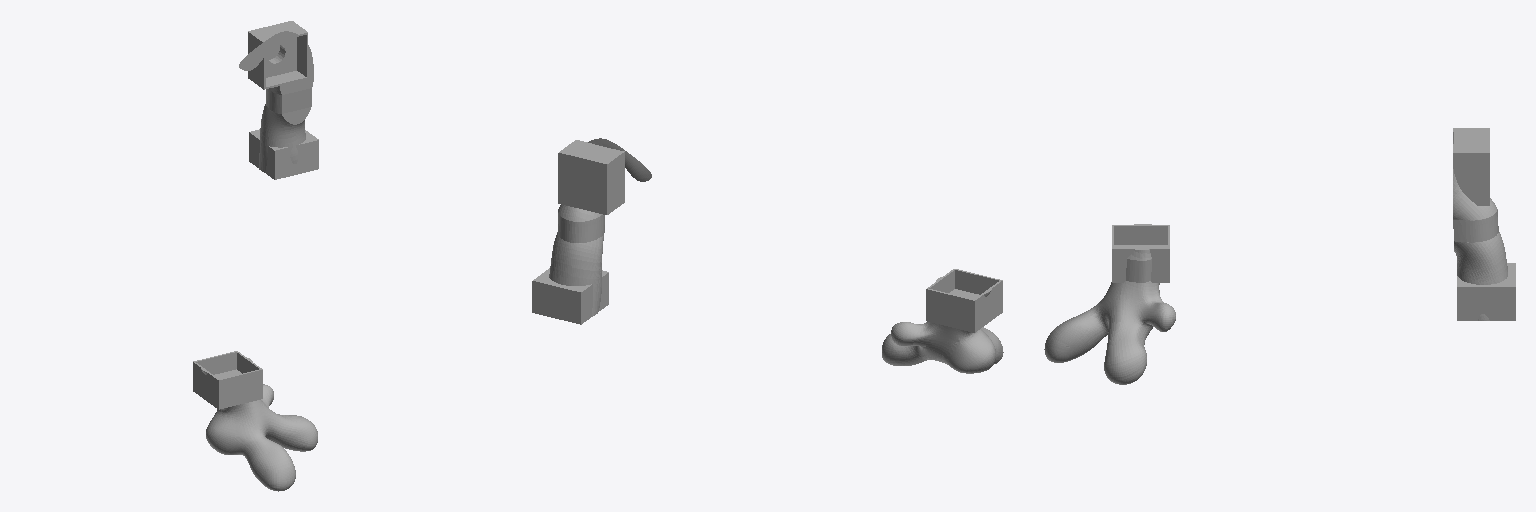
robot.urdf — FrogBot2_top-FrogBot2-x-4_bottom-FrogBot2-x-4:
<?xml version="1.0" ?>
<robot name="FrogBot2_top-FrogBot2-x-4_bottom-FrogBot2-x-4">

<material name="pla_5_percent_infill">
  <color rgba="0.700 0.700 0.700 1.000"/>
</material>

<link name="base_link">
  <inertial>
    <origin xyz="0 0 0" rpy="0 0 0"/>
    <mass value="1.3341577719423"/>
    <inertia ixx="0.0046797925109551535" iyy="0.011134478382956134" izz="0.010477176548232365" ixy="0.00012495104989682066" iyz="8.213962567094231e-05" ixz="-0.002474445058077273"/>
  </inertial>
  <visual>
    <origin xyz="0 0 0" rpy="0 0 0"/>
    <geometry>
      <mesh filename="simple_meshes/base_link.stl" scale="0.001 0.001 0.001"/>
    </geometry>
    <material name="pla_5_percent_infill"/>
  </visual>
  <collision>
    <origin xyz="0 0 0" rpy="0 0 0"/>
    <geometry>
      <mesh filename="simple_meshes/base_link.stl" scale="0.001 0.001 0.001"/>
    </geometry>
  </collision>
</link>

<link name="body_1_0_1">
  <inertial>
    <origin xyz="-0.053395 -0.09218 -0.023663" rpy="0 0 0"/>
    <mass value="0.05881359036328867"/>
    <inertia ixx="9.095212478772816e-05" iyy="9.433446921563066e-05" izz="1.9571050901978073e-05" ixy="-2.2703813579838918e-07" iyz="5.8764704355988514e-06" ixz="8.867298002828396e-06"/>
  </inertial>
  <visual>
    <origin xyz="-0.053395 -0.09218 -0.023663" rpy="0 0 0"/>
    <geometry>
      <mesh filename="simple_meshes/body_1_0_1.stl" scale="0.001 0.001 0.001"/>
    </geometry>
    <material name="pla_5_percent_infill"/>
  </visual>
  <collision>
    <origin xyz="-0.053395 -0.09218 -0.023663" rpy="0 0 0"/>
    <geometry>
      <mesh filename="simple_meshes/body_1_0_1.stl" scale="0.001 0.001 0.001"/>
    </geometry>
  </collision>
</link>

<link name="body_1_1_1">
  <inertial>
    <origin xyz="0.095032 -0.09218 0.005345" rpy="0 0 0"/>
    <mass value="0.12147764623430506"/>
    <inertia ixx="0.00010246199263522172" iyy="0.0001761943179062911" izz="0.00011782166533552858" ixy="5.410723347054093e-06" iyz="6.0611791908008915e-06" ixz="-4.685277818563974e-05"/>
  </inertial>
  <visual>
    <origin xyz="0.095032 -0.09218 0.005345" rpy="0 0 0"/>
    <geometry>
      <mesh filename="simple_meshes/body_1_1_1.stl" scale="0.001 0.001 0.001"/>
    </geometry>
    <material name="pla_5_percent_infill"/>
  </visual>
  <collision>
    <origin xyz="0.095032 -0.09218 0.005345" rpy="0 0 0"/>
    <geometry>
      <mesh filename="simple_meshes/body_1_1_1.stl" scale="0.001 0.001 0.001"/>
    </geometry>
  </collision>
</link>

<link name="body_1_2_1">
  <inertial>
    <origin xyz="-0.041549 0.09218 -0.043945" rpy="0 0 0"/>
    <mass value="0.0660515897145135"/>
    <inertia ixx="0.00015249496816287212" iyy="0.0001576127342945383" izz="3.07219080334755e-05" ixy="1.501649453832291e-06" iyz="-2.0231122639735257e-05" ixz="2.11377468936422e-05"/>
  </inertial>
  <visual>
    <origin xyz="-0.041549 0.09218 -0.043945" rpy="0 0 0"/>
    <geometry>
      <mesh filename="simple_meshes/body_1_2_1.stl" scale="0.001 0.001 0.001"/>
    </geometry>
    <material name="pla_5_percent_infill"/>
  </visual>
  <collision>
    <origin xyz="-0.041549 0.09218 -0.043945" rpy="0 0 0"/>
    <geometry>
      <mesh filename="simple_meshes/body_1_2_1.stl" scale="0.001 0.001 0.001"/>
    </geometry>
  </collision>
</link>

<link name="body_1_3_1">
  <inertial>
    <origin xyz="0.087142 0.09218 -0.003397" rpy="0 0 0"/>
    <mass value="0.12451073409510506"/>
    <inertia ixx="0.00010571617843158684" iyy="0.00017777966187887406" izz="0.00011883490240439248" ixy="-9.040581426799591e-06" iyz="-6.161322615455046e-06" ixz="-4.708264072333197e-05"/>
  </inertial>
  <visual>
    <origin xyz="0.087142 0.09218 -0.003397" rpy="0 0 0"/>
    <geometry>
      <mesh filename="simple_meshes/body_1_3_1.stl" scale="0.001 0.001 0.001"/>
    </geometry>
    <material name="pla_5_percent_infill"/>
  </visual>
  <collision>
    <origin xyz="0.087142 0.09218 -0.003397" rpy="0 0 0"/>
    <geometry>
      <mesh filename="simple_meshes/body_1_3_1.stl" scale="0.001 0.001 0.001"/>
    </geometry>
  </collision>
</link>

<link name="body_2_0_1">
  <inertial>
    <origin xyz="-0.065654 -0.139685 0.114558" rpy="0 0 0"/>
    <mass value="0.1107444252530155"/>
    <inertia ixx="0.00012624032940738994" iyy="0.00013863656985073271" izz="0.0001921665932403502" ixy="-1.045247047117481e-05" iyz="5.1925694311309376e-06" ixz="8.150636253358113e-06"/>
  </inertial>
  <visual>
    <origin xyz="-0.065654 -0.139685 0.114558" rpy="0 0 0"/>
    <geometry>
      <mesh filename="simple_meshes/body_2_0_1.stl" scale="0.001 0.001 0.001"/>
    </geometry>
    <material name="pla_5_percent_infill"/>
  </visual>
  <collision>
    <origin xyz="-0.065654 -0.139685 0.114558" rpy="0 0 0"/>
    <geometry>
      <mesh filename="simple_meshes/body_2_0_1.stl" scale="0.001 0.001 0.001"/>
    </geometry>
  </collision>
</link>

<link name="body_2_1_1">
  <inertial>
    <origin xyz="0.15751 -0.143533 0.114558" rpy="0 0 0"/>
    <mass value="0.08831010992293215"/>
    <inertia ixx="8.490810928962582e-05" iyy="9.918413415202845e-05" izz="9.836942171722717e-05" ixy="-9.11212129733191e-07" iyz="2.318386847240247e-05" ixz="1.448251129212855e-05"/>
  </inertial>
  <visual>
    <origin xyz="0.15751 -0.143533 0.114558" rpy="0 0 0"/>
    <geometry>
      <mesh filename="simple_meshes/body_2_1_1.stl" scale="0.001 0.001 0.001"/>
    </geometry>
    <material name="pla_5_percent_infill"/>
  </visual>
  <collision>
    <origin xyz="0.15751 -0.143533 0.114558" rpy="0 0 0"/>
    <geometry>
      <mesh filename="simple_meshes/body_2_1_1.stl" scale="0.001 0.001 0.001"/>
    </geometry>
  </collision>
</link>

<link name="body_2_2_1">
  <inertial>
    <origin xyz="-0.061161 0.145934 0.114558" rpy="0 0 0"/>
    <mass value="0.10824732304279813"/>
    <inertia ixx="0.00012591728711228416" iyy="0.00013513996235742145" izz="0.000191953516375088" ixy="1.1707051718161995e-05" iyz="-3.4574848813014557e-06" ixz="5.330766853549416e-06"/>
  </inertial>
  <visual>
    <origin xyz="-0.061161 0.145934 0.114558" rpy="0 0 0"/>
    <geometry>
      <mesh filename="simple_meshes/body_2_2_1.stl" scale="0.001 0.001 0.001"/>
    </geometry>
    <material name="pla_5_percent_infill"/>
  </visual>
  <collision>
    <origin xyz="-0.061161 0.145934 0.114558" rpy="0 0 0"/>
    <geometry>
      <mesh filename="simple_meshes/body_2_2_1.stl" scale="0.001 0.001 0.001"/>
    </geometry>
  </collision>
</link>

<link name="body_2_3_1">
  <inertial>
    <origin xyz="0.160089 0.145768 0.114558" rpy="0 0 0"/>
    <mass value="0.08316405117493891"/>
    <inertia ixx="8.562527914710016e-05" iyy="9.445152169073809e-05" izz="9.300721714380423e-05" ixy="2.3158356639860558e-07" iyz="-2.4224199416408507e-05" ixz="1.870806997767002e-05"/>
  </inertial>
  <visual>
    <origin xyz="0.160089 0.145768 0.114558" rpy="0 0 0"/>
    <geometry>
      <mesh filename="simple_meshes/body_2_3_1.stl" scale="0.001 0.001 0.001"/>
    </geometry>
    <material name="pla_5_percent_infill"/>
  </visual>
  <collision>
    <origin xyz="0.160089 0.145768 0.114558" rpy="0 0 0"/>
    <geometry>
      <mesh filename="simple_meshes/body_2_3_1.stl" scale="0.001 0.001 0.001"/>
    </geometry>
  </collision>
</link>

<joint name="joint_1_0" type="revolute">
  <origin xyz="0.053395 0.09218 0.023663" rpy="0 0 0"/>
  <parent link="base_link"/>
  <child link="body_1_0_1"/>
  <axis xyz="1.0 0.0 0.0"/>
  <limit upper="1.2" lower="-1.2" effort="3.8" velocity="5.4"/>
</joint>
<transmission name="joint_1_0_tran">
  <type>transmission_interface/SimpleTransmission</type>
  <joint name="joint_1_0">
    <hardwareInterface>PositionJointInterface</hardwareInterface>
  </joint>
  <actuator name="joint_1_0_actr">
    <hardwareInterface>PositionJointInterface</hardwareInterface>
    <mechanicalReduction>1</mechanicalReduction>
  </actuator>
</transmission>

<joint name="joint_1_1" type="revolute">
  <origin xyz="-0.095032 0.09218 -0.005345" rpy="0 0 0"/>
  <parent link="base_link"/>
  <child link="body_1_1_1"/>
  <axis xyz="1.0 0.0 0.0"/>
  <limit upper="1.2" lower="-1.2" effort="3.8" velocity="5.4"/>
</joint>
<transmission name="joint_1_1_tran">
  <type>transmission_interface/SimpleTransmission</type>
  <joint name="joint_1_1">
    <hardwareInterface>PositionJointInterface</hardwareInterface>
  </joint>
  <actuator name="joint_1_1_actr">
    <hardwareInterface>PositionJointInterface</hardwareInterface>
    <mechanicalReduction>1</mechanicalReduction>
  </actuator>
</transmission>

<joint name="joint_1_2" type="revolute">
  <origin xyz="0.041549 -0.09218 0.043945" rpy="0 0 0"/>
  <parent link="base_link"/>
  <child link="body_1_2_1"/>
  <axis xyz="1.0 0.0 0.0"/>
  <limit upper="1.2" lower="-1.2" effort="3.8" velocity="5.4"/>
</joint>
<transmission name="joint_1_2_tran">
  <type>transmission_interface/SimpleTransmission</type>
  <joint name="joint_1_2">
    <hardwareInterface>PositionJointInterface</hardwareInterface>
  </joint>
  <actuator name="joint_1_2_actr">
    <hardwareInterface>PositionJointInterface</hardwareInterface>
    <mechanicalReduction>1</mechanicalReduction>
  </actuator>
</transmission>

<joint name="joint_1_3" type="revolute">
  <origin xyz="-0.087142 -0.09218 0.003397" rpy="0 0 0"/>
  <parent link="base_link"/>
  <child link="body_1_3_1"/>
  <axis xyz="1.0 0.0 0.0"/>
  <limit upper="1.2" lower="-1.2" effort="3.8" velocity="5.4"/>
</joint>
<transmission name="joint_1_3_tran">
  <type>transmission_interface/SimpleTransmission</type>
  <joint name="joint_1_3">
    <hardwareInterface>PositionJointInterface</hardwareInterface>
  </joint>
  <actuator name="joint_1_3_actr">
    <hardwareInterface>PositionJointInterface</hardwareInterface>
    <mechanicalReduction>1</mechanicalReduction>
  </actuator>
</transmission>

<joint name="joint_2_0" type="revolute">
  <origin xyz="0.012259 0.047505 -0.138221" rpy="0 0 0"/>
  <parent link="body_1_0_1"/>
  <child link="body_2_0_1"/>
  <axis xyz="1.0 0.0 0.0"/>
  <limit upper="1.2" lower="-1.2" effort="3.8" velocity="5.4"/>
</joint>
<transmission name="joint_2_0_tran">
  <type>transmission_interface/SimpleTransmission</type>
  <joint name="joint_2_0">
    <hardwareInterface>PositionJointInterface</hardwareInterface>
  </joint>
  <actuator name="joint_2_0_actr">
    <hardwareInterface>PositionJointInterface</hardwareInterface>
    <mechanicalReduction>1</mechanicalReduction>
  </actuator>
</transmission>

<joint name="joint_2_1" type="revolute">
  <origin xyz="-0.062478 0.051353 -0.109213" rpy="0 0 0"/>
  <parent link="body_1_1_1"/>
  <child link="body_2_1_1"/>
  <axis xyz="1.0 0.0 0.0"/>
  <limit upper="1.2" lower="-1.2" effort="3.8" velocity="5.4"/>
</joint>
<transmission name="joint_2_1_tran">
  <type>transmission_interface/SimpleTransmission</type>
  <joint name="joint_2_1">
    <hardwareInterface>PositionJointInterface</hardwareInterface>
  </joint>
  <actuator name="joint_2_1_actr">
    <hardwareInterface>PositionJointInterface</hardwareInterface>
    <mechanicalReduction>1</mechanicalReduction>
  </actuator>
</transmission>

<joint name="joint_2_2" type="revolute">
  <origin xyz="0.019612 -0.053754 -0.158503" rpy="0 0 0"/>
  <parent link="body_1_2_1"/>
  <child link="body_2_2_1"/>
  <axis xyz="1.0 0.0 0.0"/>
  <limit upper="1.2" lower="-1.2" effort="3.8" velocity="5.4"/>
</joint>
<transmission name="joint_2_2_tran">
  <type>transmission_interface/SimpleTransmission</type>
  <joint name="joint_2_2">
    <hardwareInterface>PositionJointInterface</hardwareInterface>
  </joint>
  <actuator name="joint_2_2_actr">
    <hardwareInterface>PositionJointInterface</hardwareInterface>
    <mechanicalReduction>1</mechanicalReduction>
  </actuator>
</transmission>

<joint name="joint_2_3" type="revolute">
  <origin xyz="-0.072947 -0.053588 -0.117955" rpy="0 0 0"/>
  <parent link="body_1_3_1"/>
  <child link="body_2_3_1"/>
  <axis xyz="1.0 0.0 0.0"/>
  <limit upper="1.2" lower="-1.2" effort="3.8" velocity="5.4"/>
</joint>
<transmission name="joint_2_3_tran">
  <type>transmission_interface/SimpleTransmission</type>
  <joint name="joint_2_3">
    <hardwareInterface>PositionJointInterface</hardwareInterface>
  </joint>
  <actuator name="joint_2_3_actr">
    <hardwareInterface>PositionJointInterface</hardwareInterface>
    <mechanicalReduction>1</mechanicalReduction>
  </actuator>
</transmission>

</robot>

--- What the picture shows (computed from the rendered views, not written in the file) ---
3 views of the same robot in one strip: view 1: azimuth 30°, elevation 25°; view 2: azimuth 150°, elevation 25°; view 3: azimuth 270°, elevation 25° (orthographic).
Robot: FrogBot2_top-FrogBot2-x-4_bottom-FrogBot2-x-4 — 9 links, 8 joints (8 revolute); root link base_link; default pose: every joint at zero.
Visible links, largest first — view 1: body_2_3_1, body_1_0_1; view 2: body_1_0_1, body_2_3_1; view 3: body_2_3_1, body_1_0_1.
Link boxes in pixels (x1=…): body_2_3_1: x1=193, y1=351, x2=317, y2=491; body_1_0_1: x1=239, y1=21, x2=318, y2=179; body_1_0_1: x1=532, y1=138, x2=651, y2=324; body_2_3_1: x1=882, y1=269, x2=1003, y2=373; body_2_3_1: x1=1044, y1=224, x2=1175, y2=384; body_1_0_1: x1=1453, y1=128, x2=1515, y2=320.
Bounding box of the posed robot: 0.2763 × 0.3894 × 0.2987 m (x, y, z).
Meshes: 9 distinct files referenced, 2 mesh visuals loaded (2 binary STL); not drawn: 7 (reference not matched to a file when rendering).